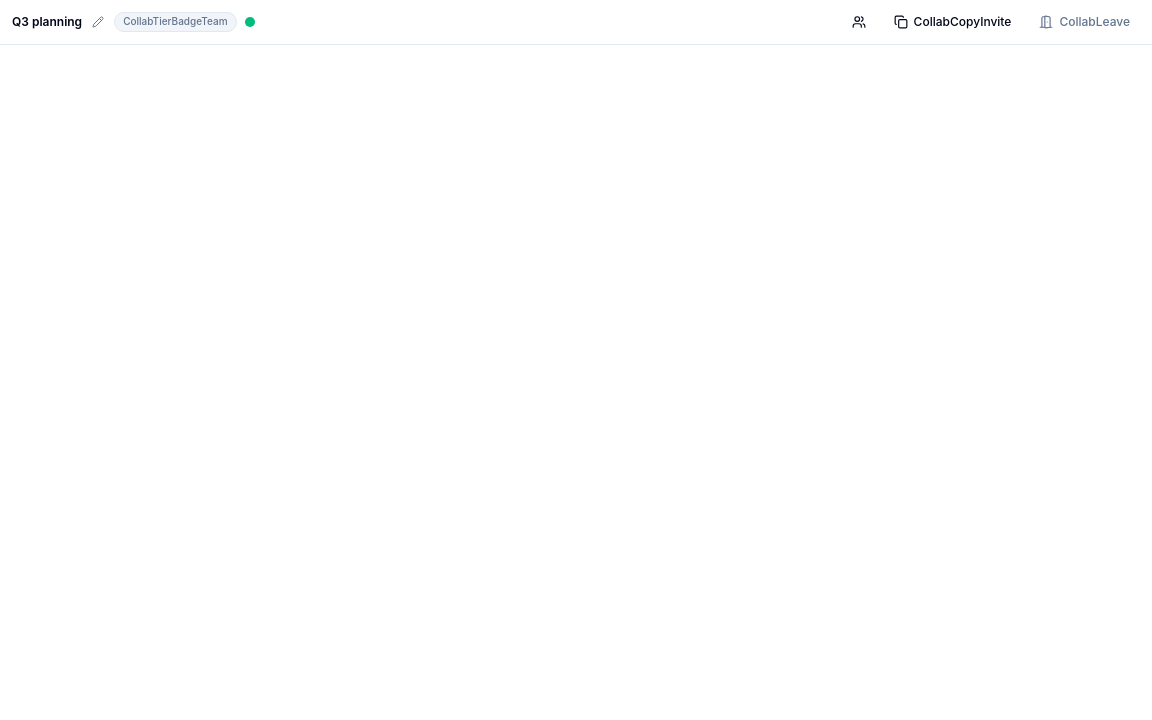
it: SessionChrome — leave modal (087) › renders exactly 2 buttons: Leave + Stay
Click the button with test id "collab-leave" at (1085, 22), box x1=1029 y1=6 x2=1140 y2=38
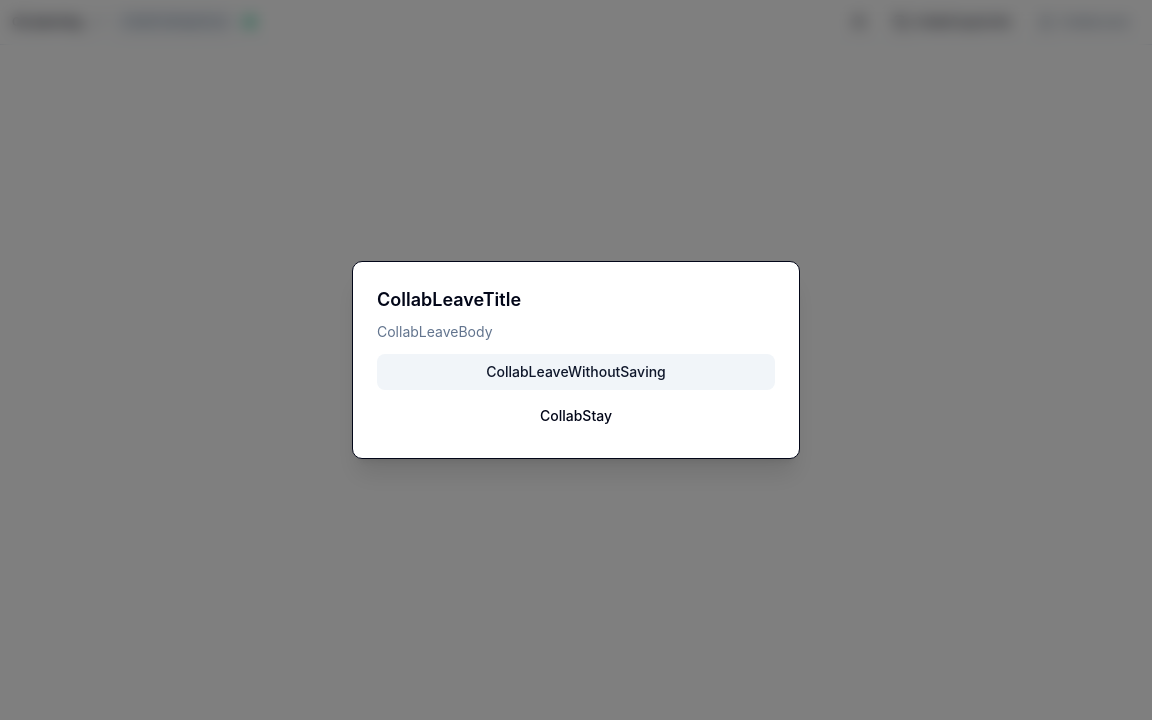
Result: the element with test id "collab-leave-modal" is shown at x1=377 y1=322 x2=775 y2=434
Result: the button with test id "collab-leave-discard" is shown at x1=377 y1=354 x2=775 y2=390
Result: the button with test id "collab-leave-stay" is shown at x1=377 y1=398 x2=775 y2=434
